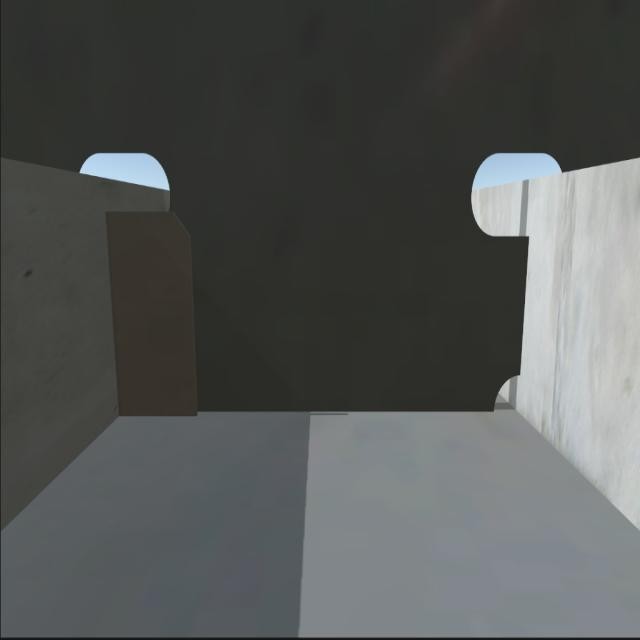fillet_hole: (486, 379, 522, 419)
fillet_yong_jeop_jang: (118, 414, 497, 419)
longi_yong_jeop_jang: (107, 219, 133, 405), (518, 236, 534, 384)
plate_CP03: (108, 212, 192, 405)
